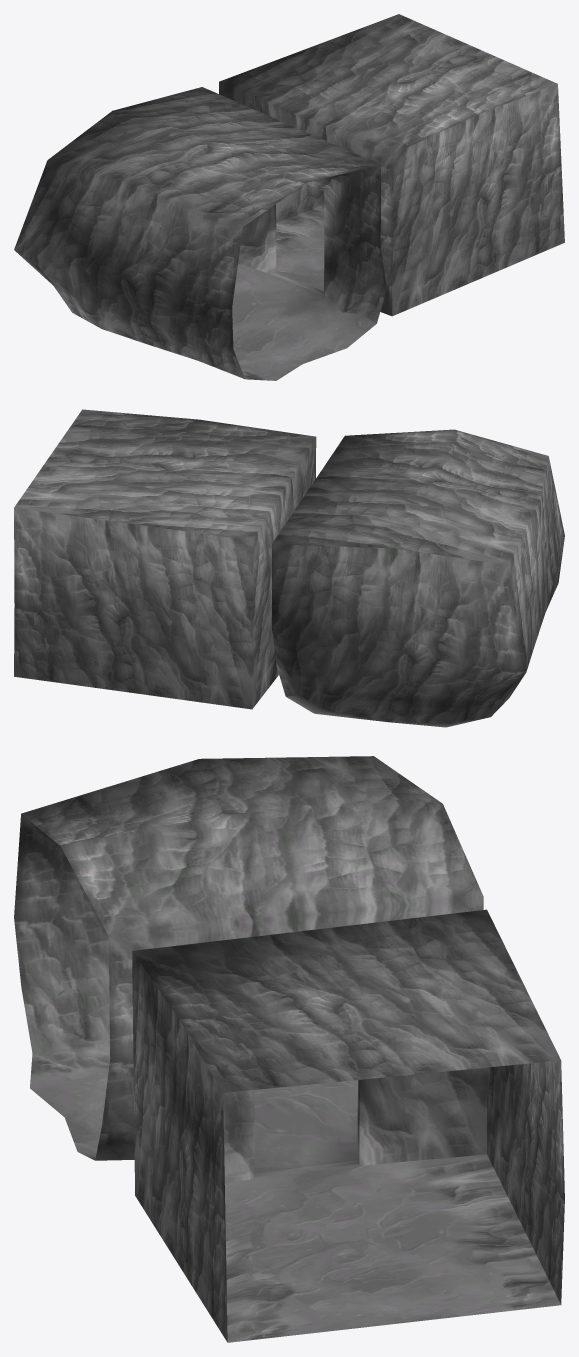
The model's file is SWORDLIGHT20_PS-AREA04_10.fbx.
3 views of the same model, one above another, from view 1: azimuth 30°, elevation 25°; view 2: azimuth 150°, elevation 25°; view 3: azimuth 270°, elevation 25° (orthographic). The views are drawn at different scales.
Parts seen in each view (by area): view 1: SWORDLIGHT20_PS-AREA04_10; view 2: SWORDLIGHT20_PS-AREA04_10; view 3: SWORDLIGHT20_PS-AREA04_10.
Part boxes in pixels (x1=…): SWORDLIGHT20_PS-AREA04_10: x1=14, y1=14, x2=564, y2=380; SWORDLIGHT20_PS-AREA04_10: x1=14, y1=409, x2=564, y2=727; SWORDLIGHT20_PS-AREA04_10: x1=14, y1=756, x2=564, y2=1342.
Size of the model in its own units: 117131 by 41950 by 75135.
Materials: 4 (4 with a texture image).
